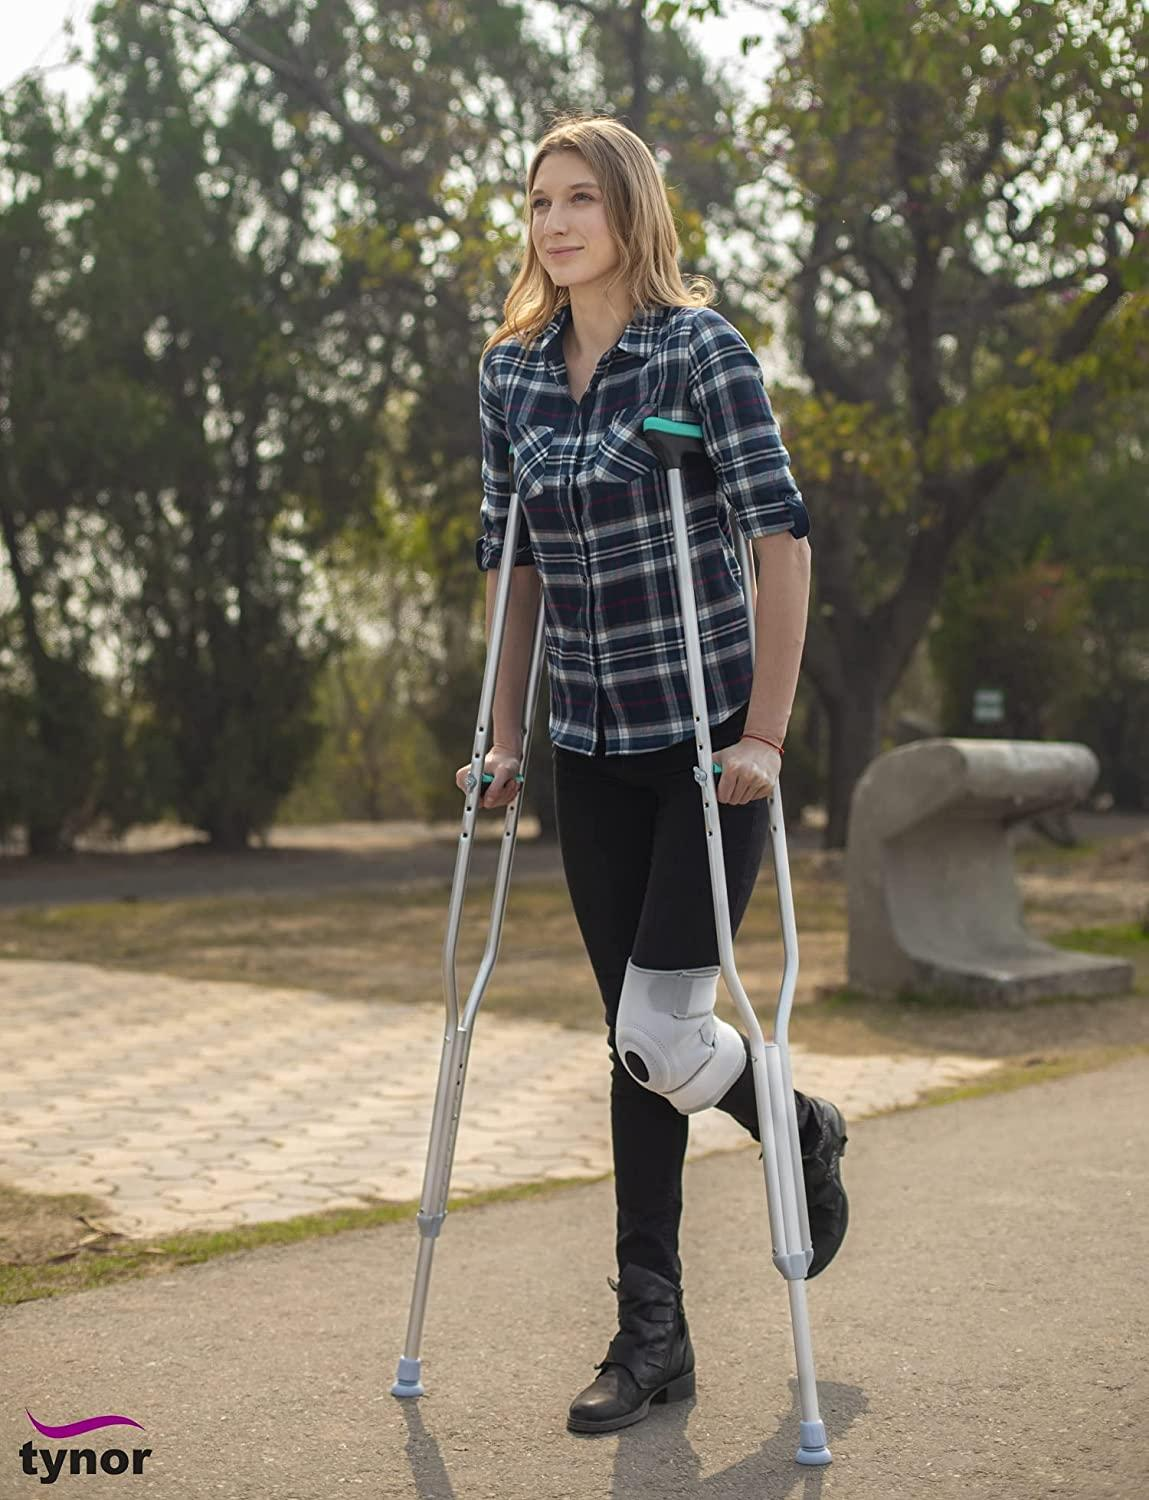crutches: (390, 118, 850, 1469)
